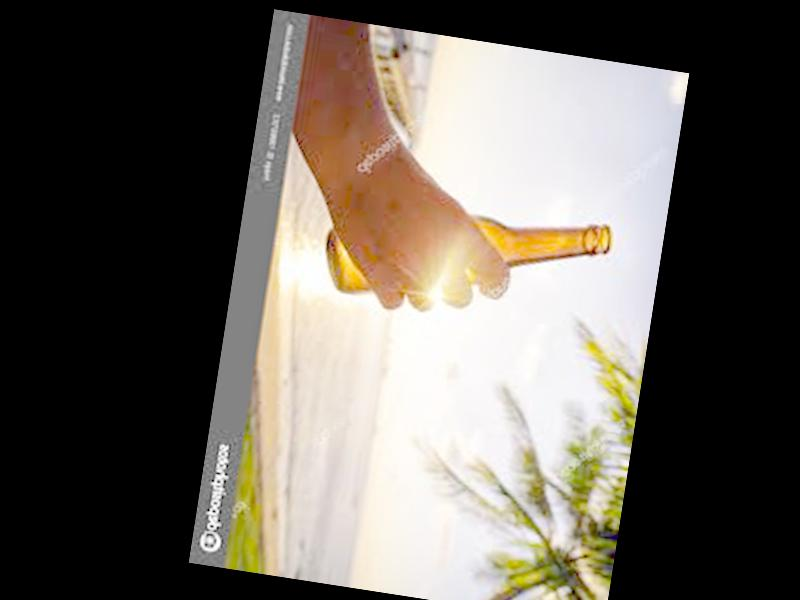Beer: (319, 182, 614, 332)
